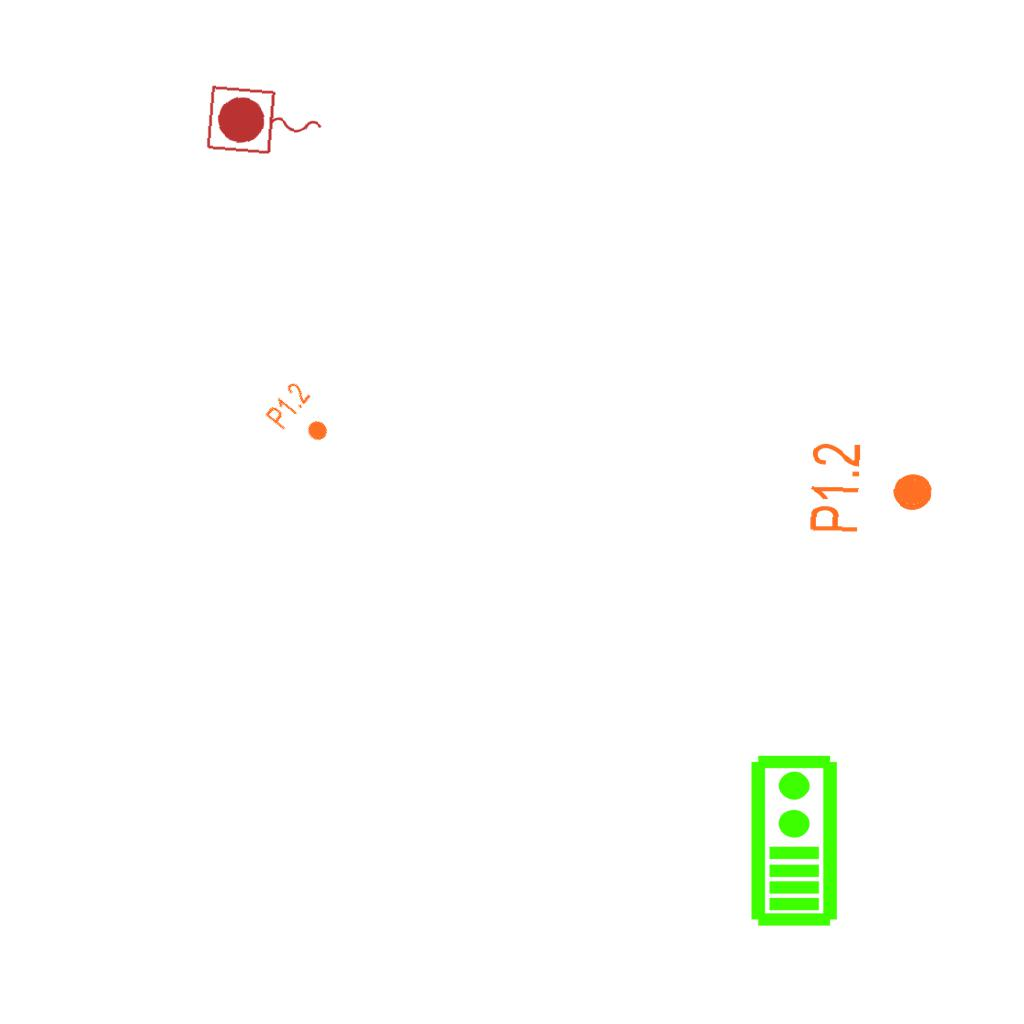Downlight_LED_Einbauleuchten_Flur: (805, 440, 938, 538), (262, 378, 342, 456)
Gegensprechanlage_mit_Video: (745, 752, 840, 928)
Zugtaster: (202, 81, 330, 165)
